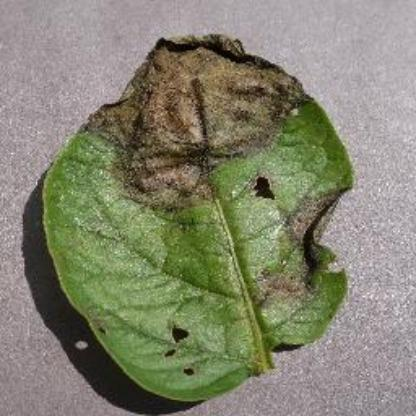Late-Blight: (15, 27, 389, 405)
